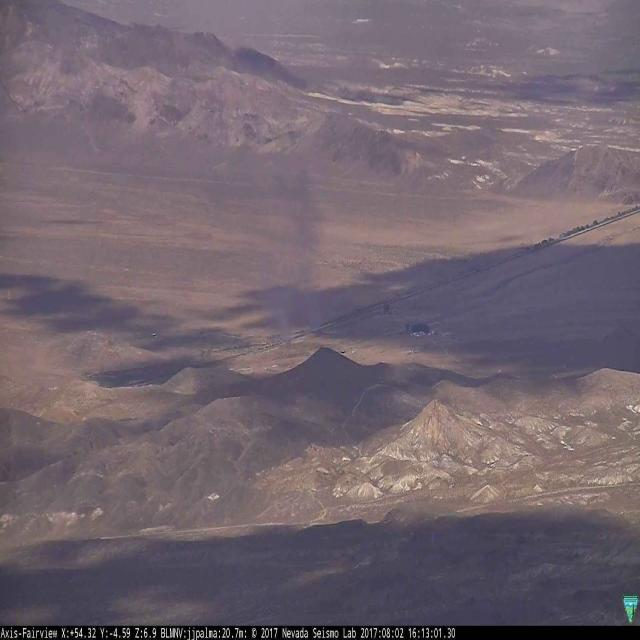smoke: (260, 134, 340, 354)
